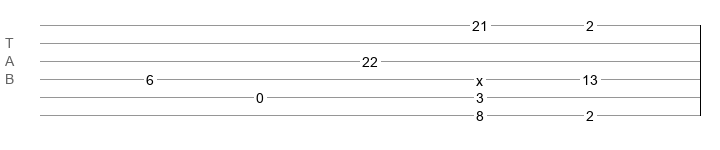0: (256, 90, 264, 100)
13: (582, 72, 598, 82)
2: (586, 108, 594, 118), (586, 18, 594, 28)
21: (472, 18, 488, 28)
22: (362, 54, 378, 64)
3: (476, 90, 484, 100)
6: (146, 72, 154, 82)
8: (476, 108, 484, 118)
x: (476, 73, 483, 81)
